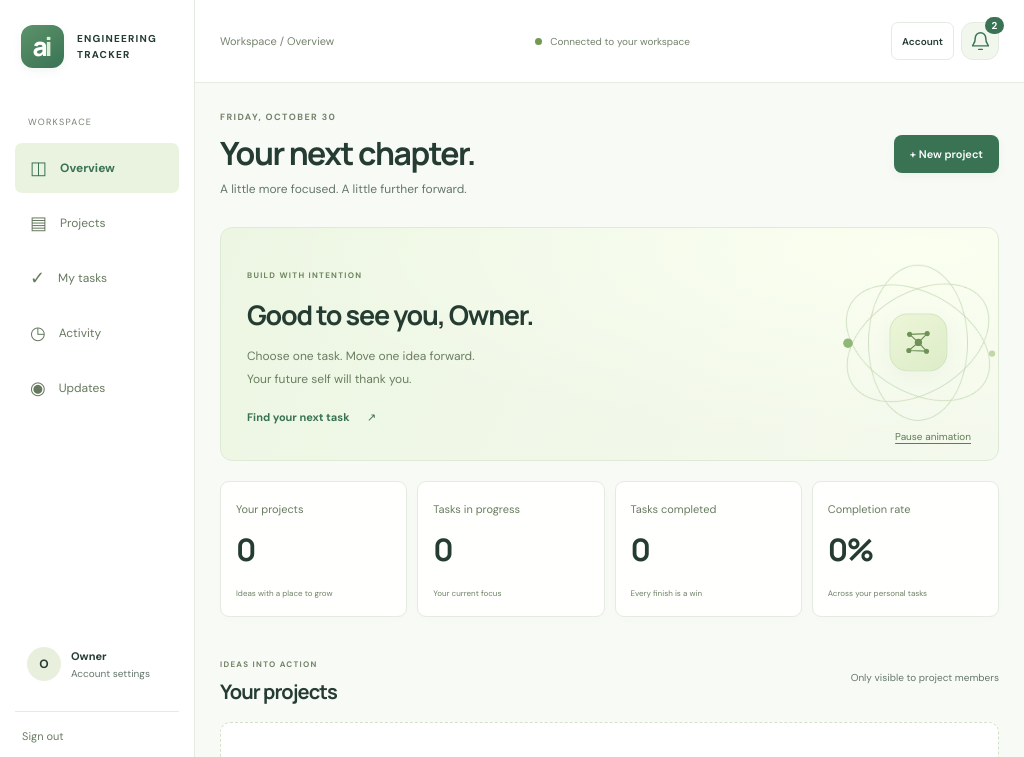
it: uses the bell to open Updates without leaving the tracker
Click the button named "Notifications, 2 unread".
click(980, 41)  # box [961,22,999,60]
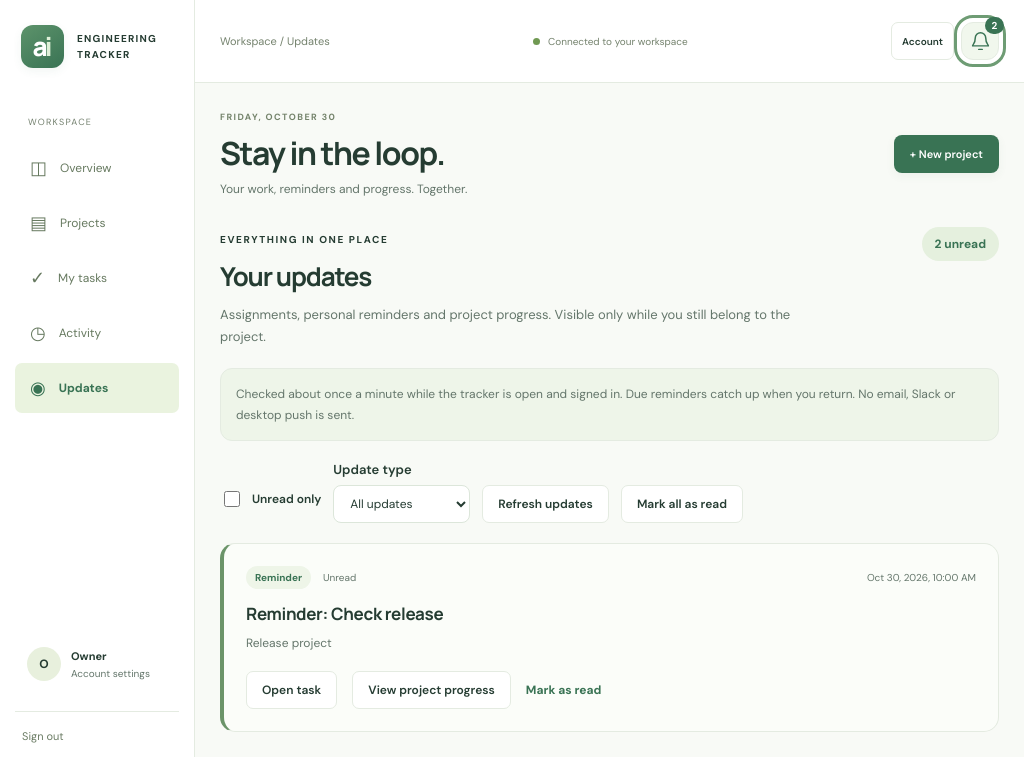
Expected: the heading "Your updates" is shown, [220,258,371,294]
Expected: the heading "Stay in the loop." is shown, [220,132,467,175]
Expected: the heading "Reminder: Check release" is shown, [246,602,443,625]
